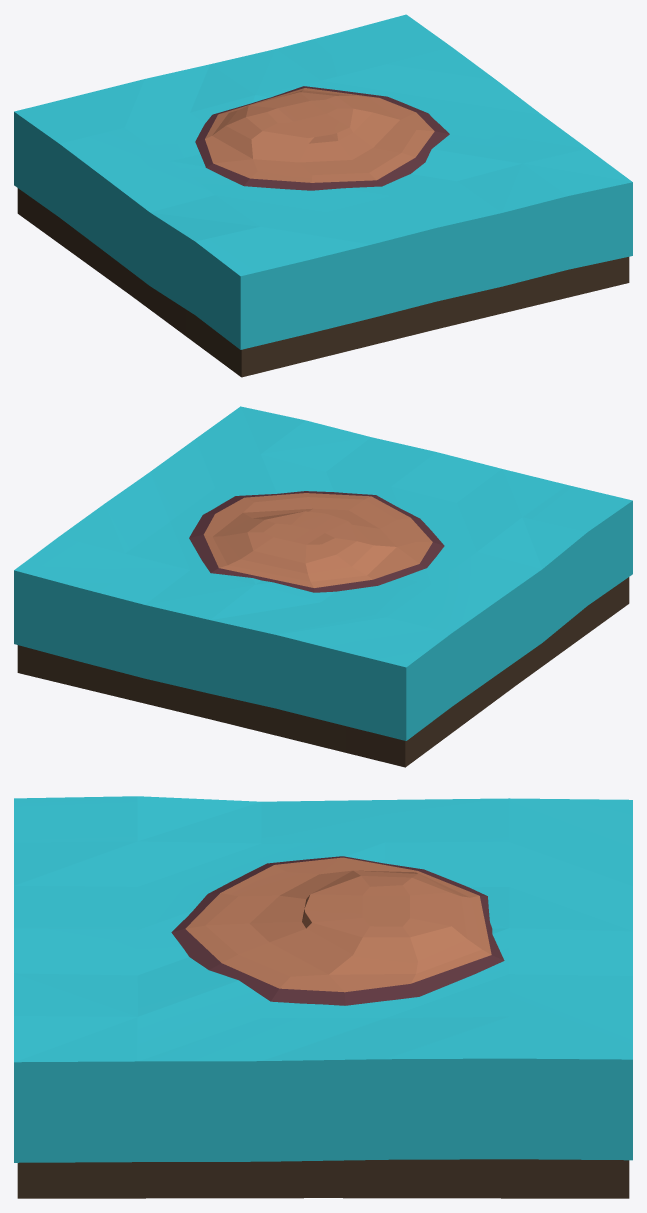
The model's file is world-island_edit.fbx.
3 renders of one model, top to bottom at view 1: azimuth 30°, elevation 25°; view 2: azimuth 150°, elevation 25°; view 3: azimuth 270°, elevation 25°, orthographic. The views are drawn at different scales.
Parts seen in each view (by area): view 1: world-island, world-island.001; view 2: world-island, world-island.001; view 3: world-island, world-island.001.
Part boxes in pixels (left/top/right/bottom): world-island: left=14, top=14, right=632, bottom=349; world-island.001: left=17, top=86, right=629, bottom=377; world-island: left=14, top=406, right=632, bottom=740; world-island.001: left=17, top=491, right=629, bottom=767; world-island: left=14, top=796, right=632, bottom=1162; world-island.001: left=17, top=856, right=629, bottom=1198.
Size of the model in its own units: 2000 by 593 by 2000.
